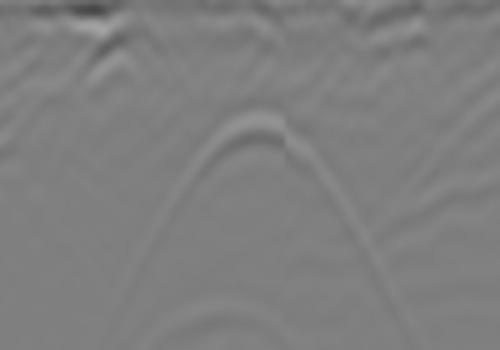hyperbola: (171, 103, 344, 204)
